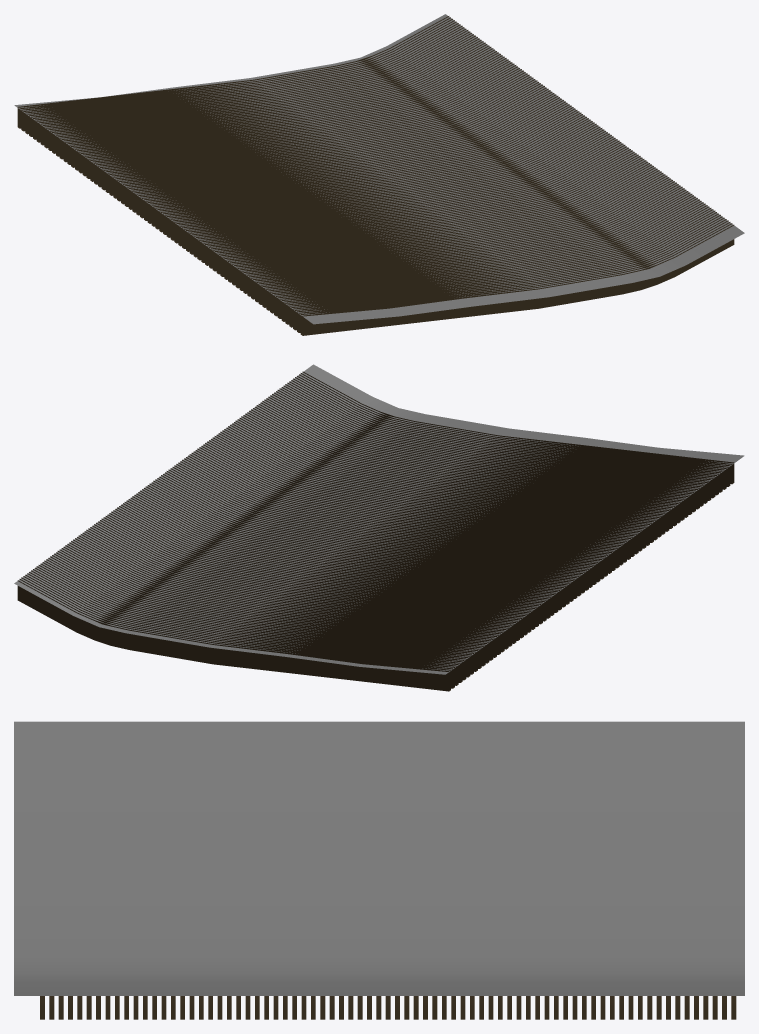
File: SM_Hall_trading_Roof.fbx
The picture shows the model from 3 angles, top to bottom: view 1: azimuth 30°, elevation 25°; view 2: azimuth 150°, elevation 25°; view 3: azimuth 270°, elevation 25°; orthographic projection. The views are drawn at different scales.
Visible parts, largest first — view 1: SM_Hall_trading_Roof; view 2: SM_Hall_trading_Roof; view 3: SM_Hall_trading_Roof.
Boxes of the visible parts, box(x1,y1,x2,y2) form: SM_Hall_trading_Roof: box(14, 14, 744, 335); SM_Hall_trading_Roof: box(14, 364, 744, 691); SM_Hall_trading_Roof: box(14, 721, 744, 1019).
Size of the model in its own units: 2648 by 335 by 3182.
